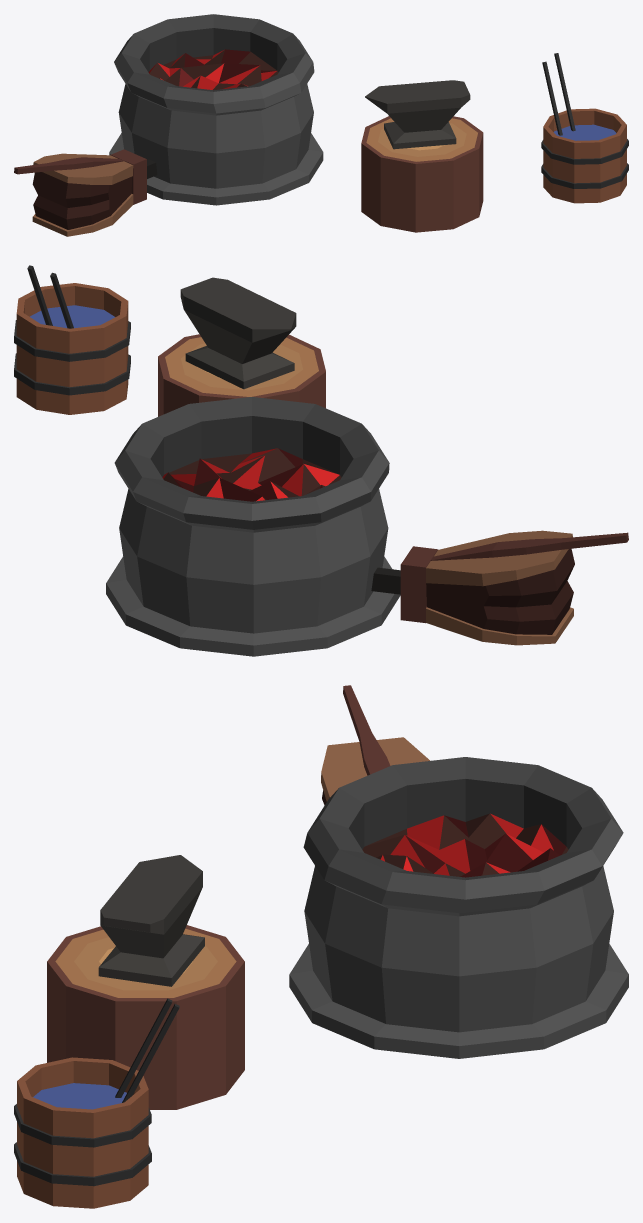
The model's file is smithy_1.fbx.
3 renders of one model, top to bottom at view 1: azimuth 30°, elevation 25°; view 2: azimuth 150°, elevation 25°; view 3: azimuth 270°, elevation 25°, orthographic. The views are drawn at different scales.
Parts seen in each view (by area): view 1: fire-pan, stump, bellows, bucket, anvil, rod, rod_2; view 2: fire-pan, bellows, bucket, anvil, stump; view 3: fire-pan, stump, bucket, anvil, bellows, rod_2, rod.
Boxes of the visible parts, x1,y1,x2,y2 form: fire-pan: (109,14,323,205); stump: (361,116,483,232); bellows: (14,149,157,236); bucket: (541,108,628,203); anvil: (365,80,470,149); rod: (554,53,575,131); rod_2: (542,61,562,135); fire-pan: (106,397,400,656); bellows: (371,530,628,645); bucket: (14,283,130,414); anvil: (180,277,296,389); stump: (158,334,325,416); fire-pan: (289,757,628,1058); stump: (47,925,244,1109); bucket: (14,1057,151,1208); anvil: (98,855,204,986); bellows: (321,685,429,805); rod_2: (115,998,172,1097); rod: (122,1004,179,1102).
Bounding box in the file's own units: 136 × 28.07 × 87.09.
